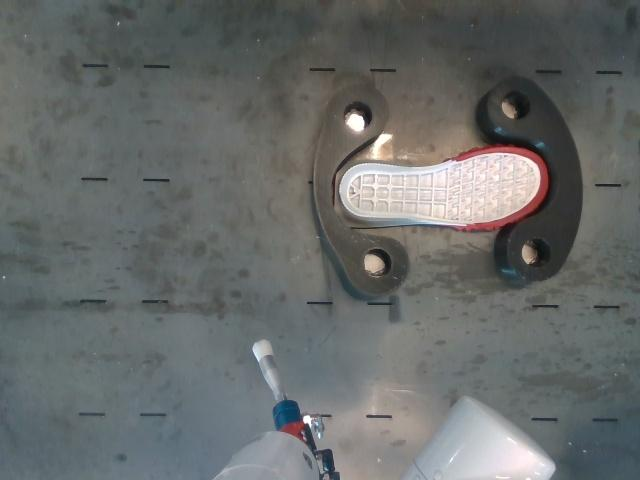shoes: (340, 147, 547, 225)
